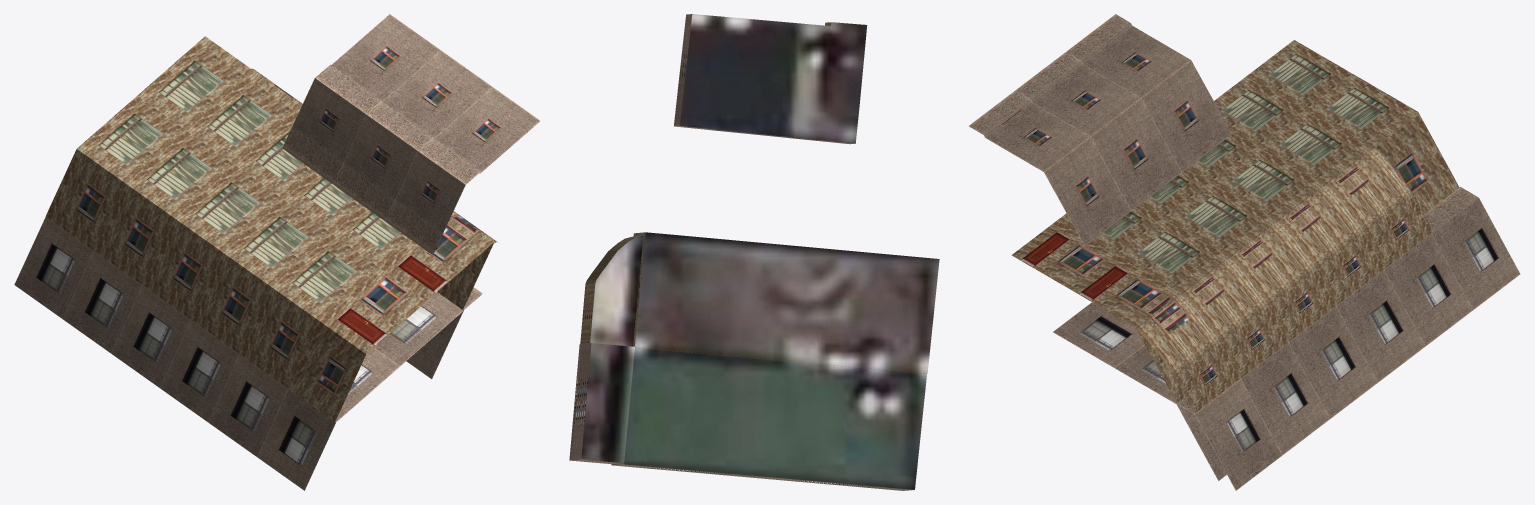
3 views of the same model, side by side, from view 1: azimuth 30°, elevation 25°; view 2: azimuth 150°, elevation 25°; view 3: azimuth 270°, elevation 25° (orthographic). The views are drawn at different scales.
Bounding box in the file's own units: 24.59 × 25.15 × 30.34.
16 materials, 16 textured.
